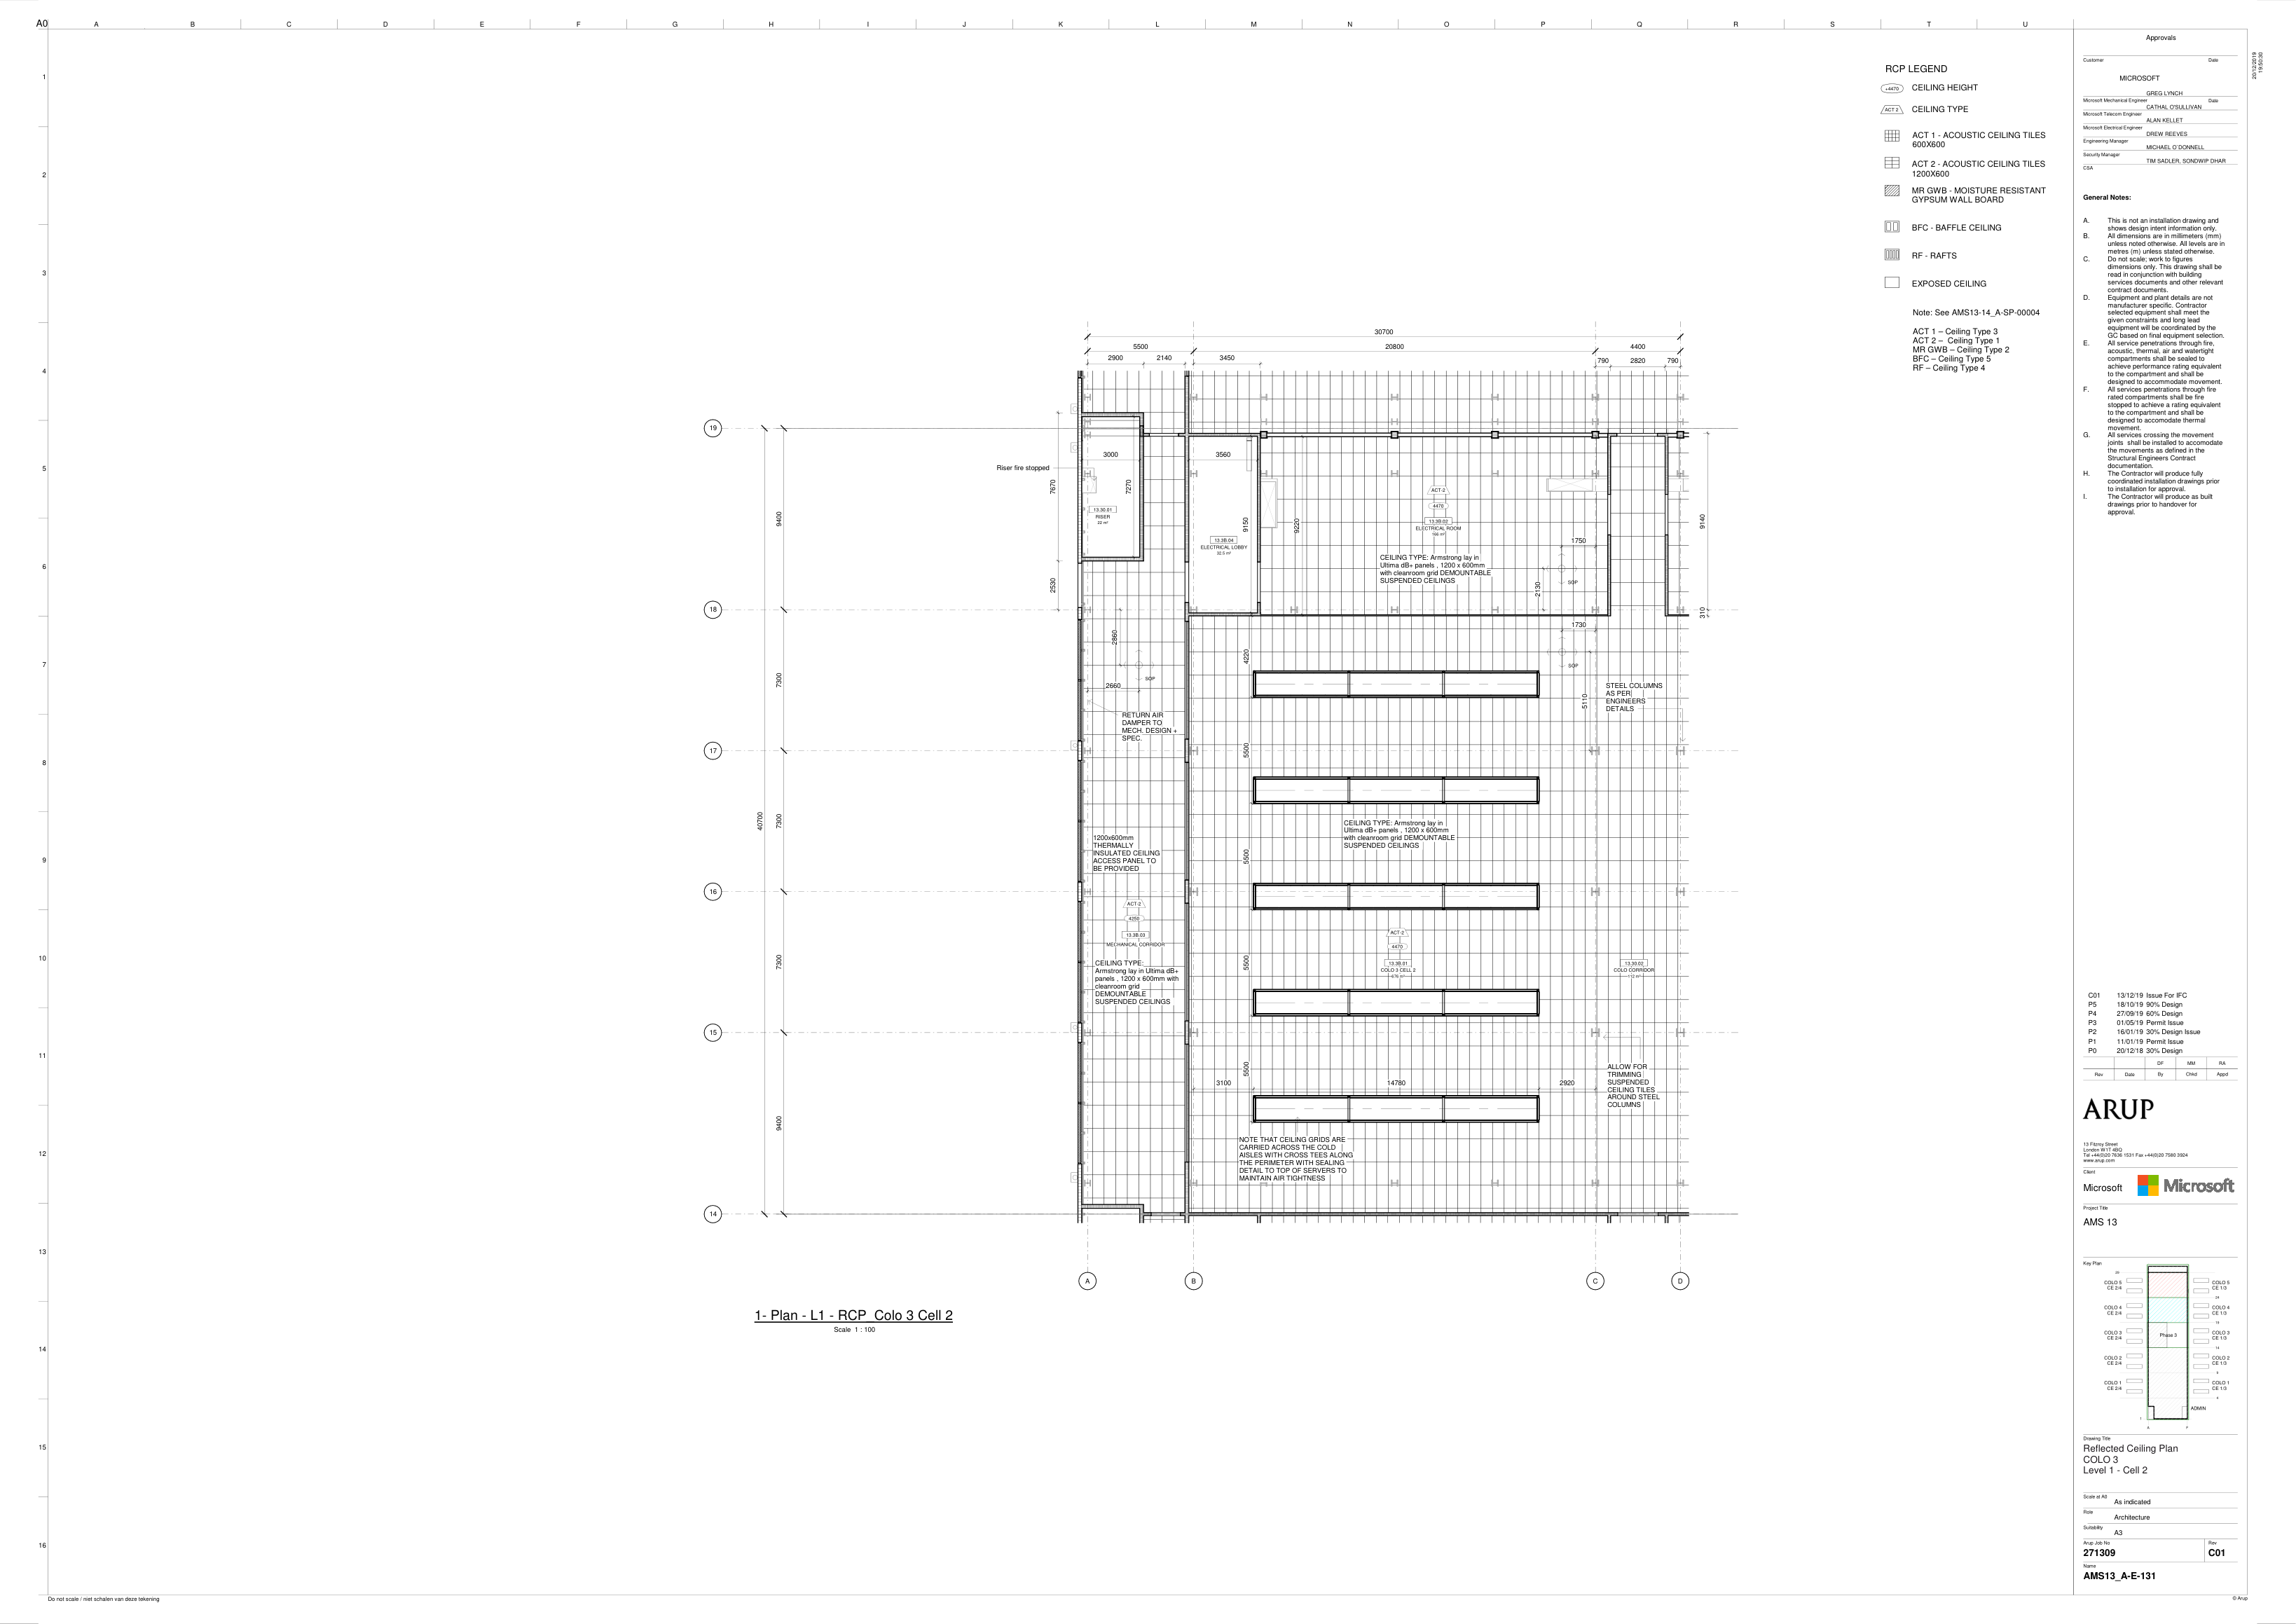Legend: (1878, 60, 2048, 378)
